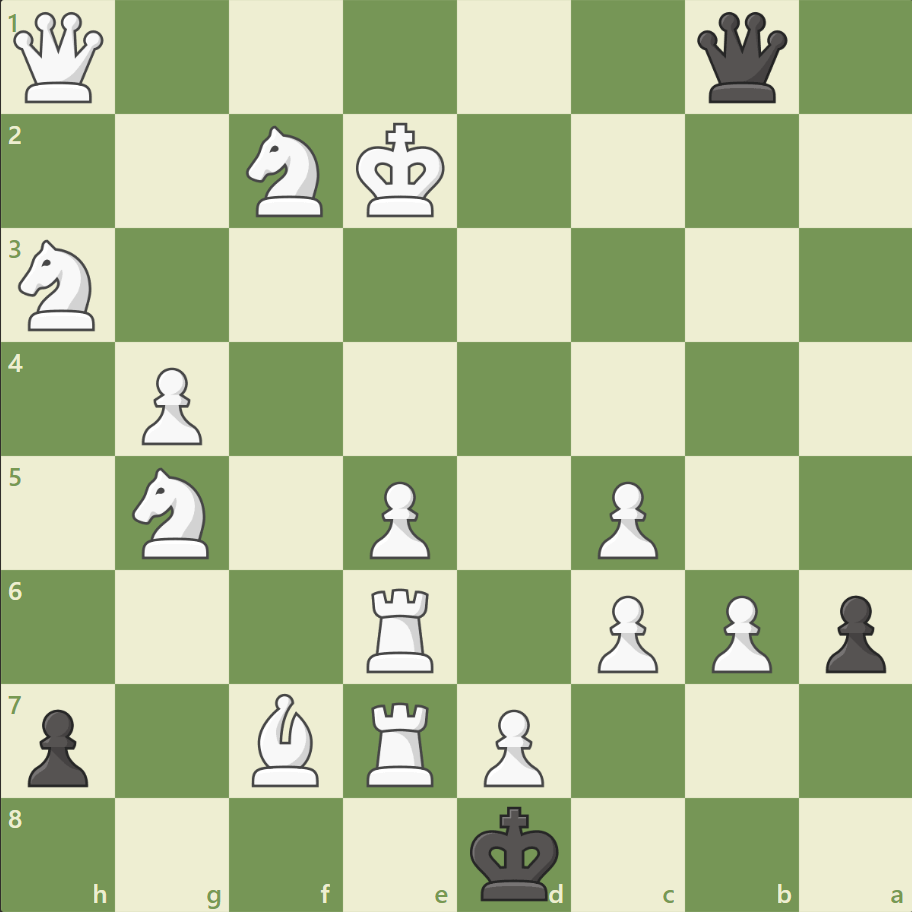B: (244, 687, 328, 790)
K: (351, 117, 451, 225)
N: (124, 461, 222, 564), (11, 234, 108, 337), (238, 121, 335, 223)
P: (474, 700, 549, 791), (701, 586, 776, 677), (133, 359, 208, 450), (588, 586, 662, 677), (588, 473, 662, 564), (361, 473, 435, 564)
Q: (10, 9, 109, 108)
R: (360, 693, 442, 790), (360, 579, 442, 676)
k: (465, 798, 565, 906)
p: (20, 700, 95, 791), (815, 586, 889, 677)
q: (691, 9, 790, 108)
